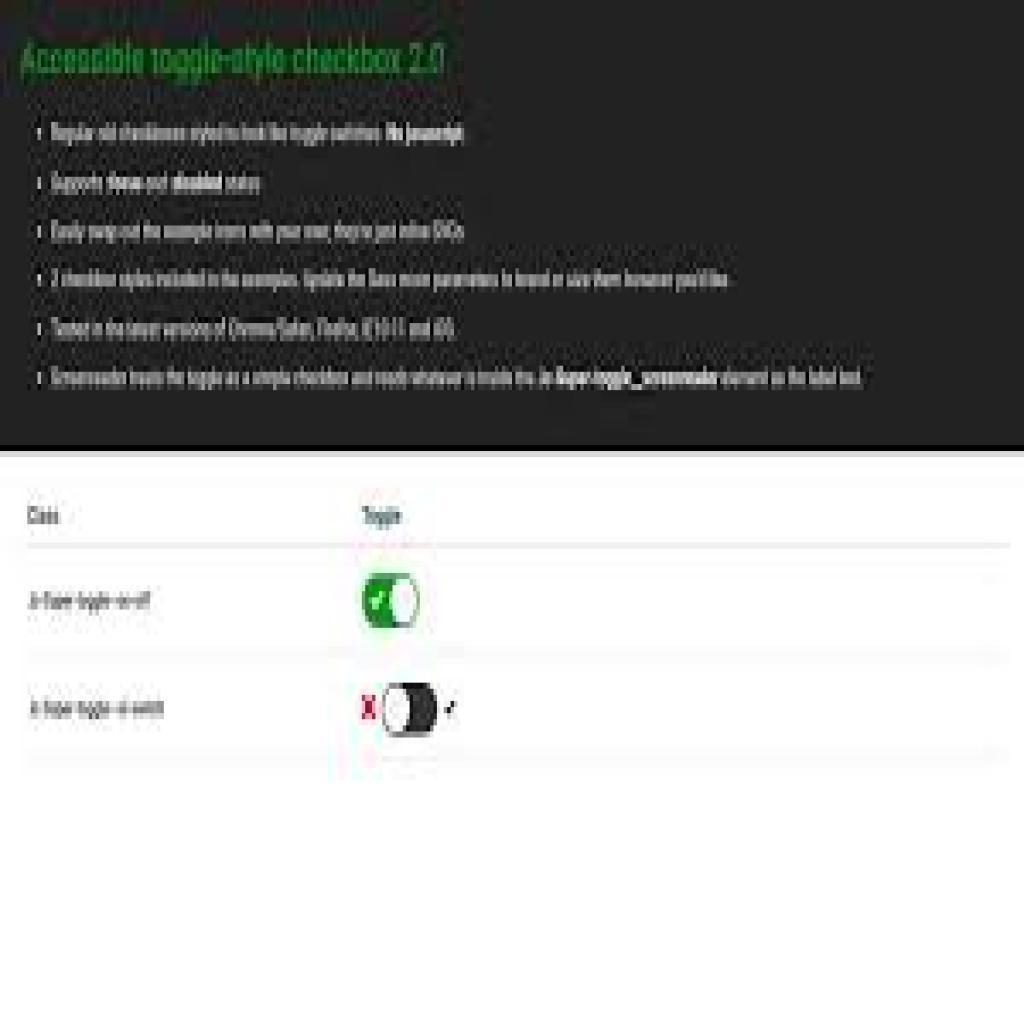label: (20, 689, 173, 724), (21, 584, 157, 618)
switch: (362, 573, 422, 630), (381, 683, 442, 738)
